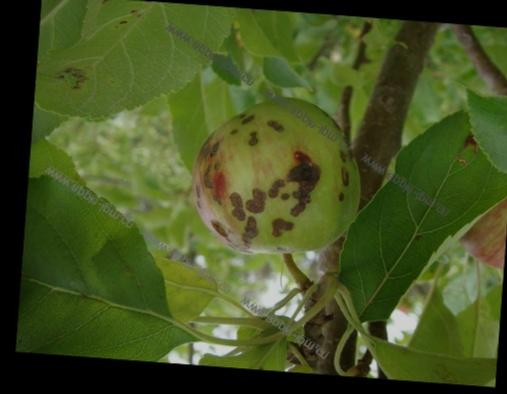rotten apple: (186, 96, 373, 263)
